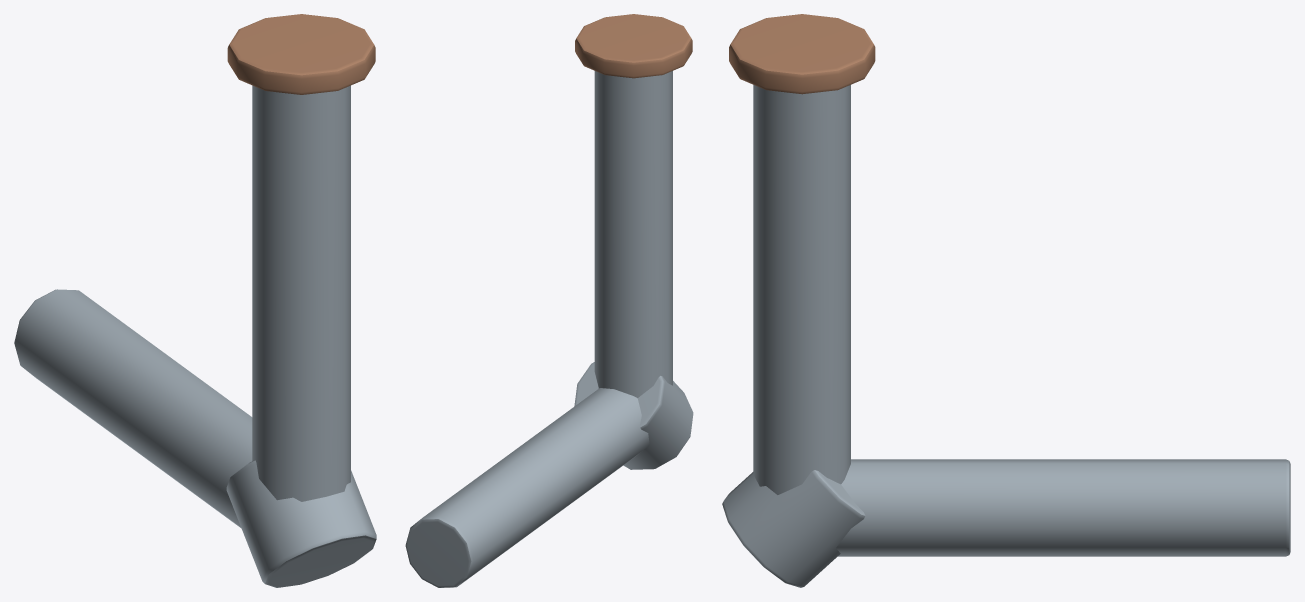
File: pipe_elbow.glb
3 renders of one model, left to right at view 1: azimuth 30°, elevation 25°; view 2: azimuth 150°, elevation 25°; view 3: azimuth 270°, elevation 25°, orthographic. The views are drawn at different scales.
Parts seen in each view (by area): view 1: pipe_elbow; view 2: pipe_elbow; view 3: pipe_elbow.
Boxes of the visible parts, box(x1,y1,x2,y2) form: pipe_elbow: box(14, 14, 376, 587); pipe_elbow: box(405, 14, 693, 587); pipe_elbow: box(722, 14, 1290, 587).
Size of the model in its own units: 0.24 by 0.971 by 0.931.
